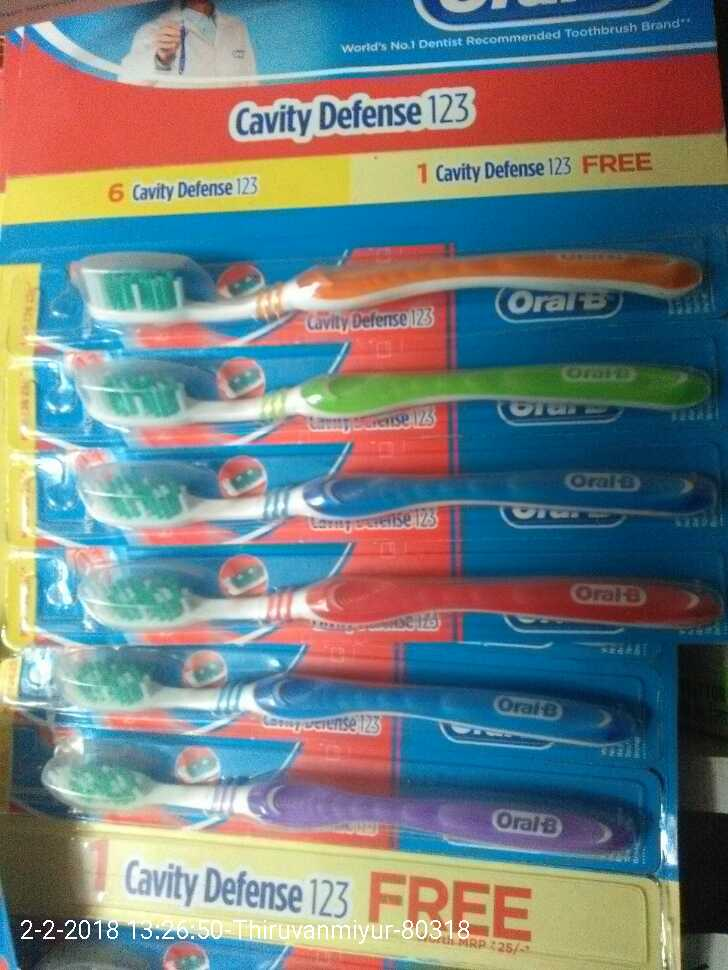oralb: (67, 230, 708, 332), (70, 330, 711, 432), (77, 446, 718, 548), (66, 549, 707, 651), (27, 643, 668, 745), (33, 748, 674, 850)
